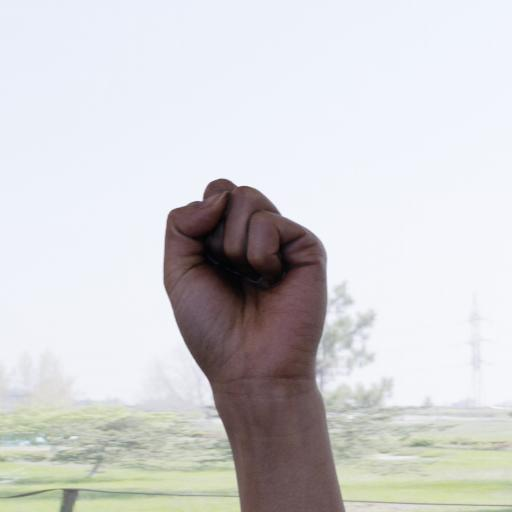S: (152, 170, 341, 399)
